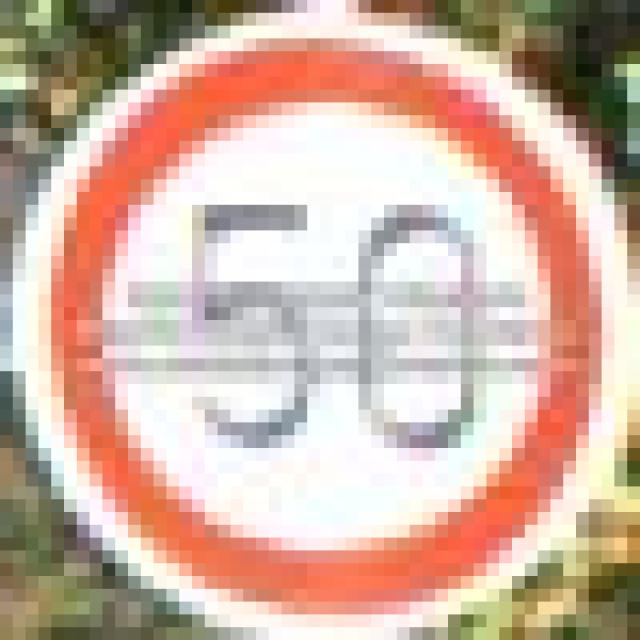speed_limit_30: (26, 26, 588, 602)
